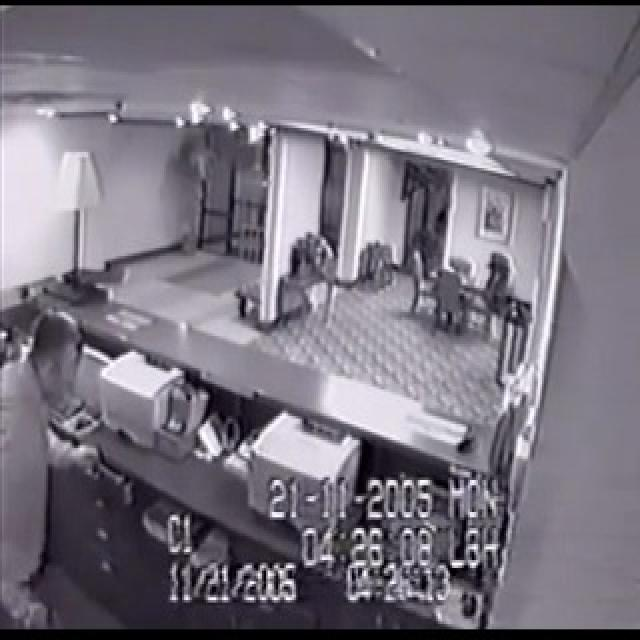thief: (4, 295, 119, 628)
